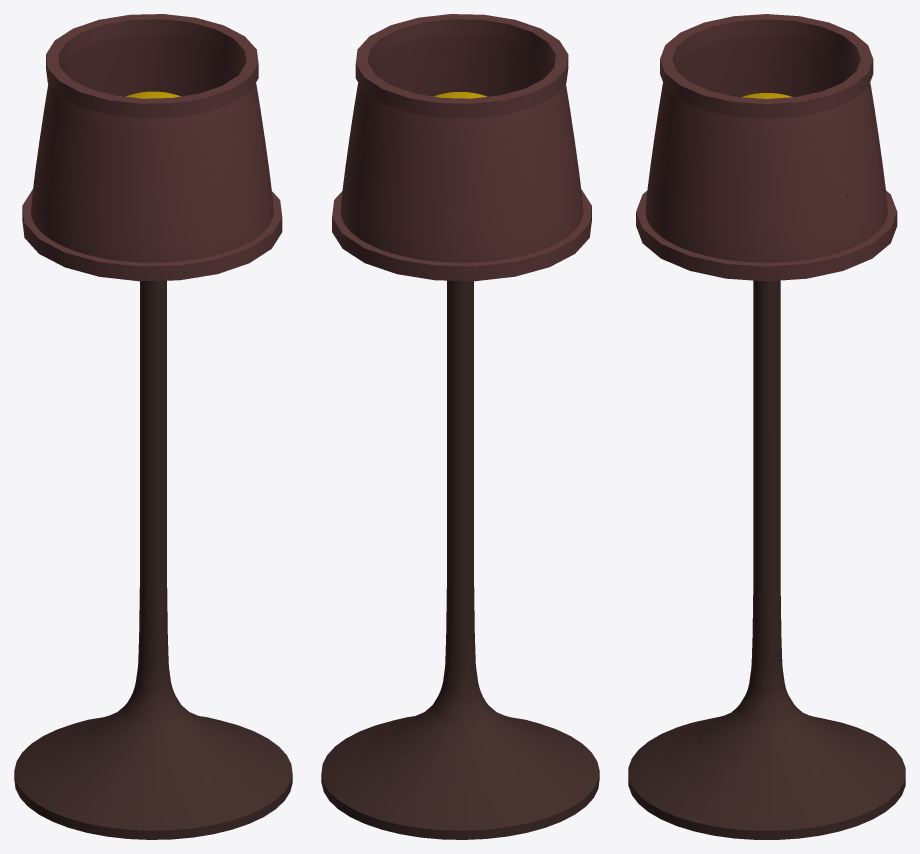
Rendered from LampeSalon1_6.fbx.
3 views of the same model, side by side, from view 1: azimuth 30°, elevation 25°; view 2: azimuth 150°, elevation 25°; view 3: azimuth 270°, elevation 25° (orthographic).
Visible parts, largest first — view 1: pPipe203, pCylinder1745, pPipe202, pPipe204; view 2: pPipe203, pCylinder1745, pPipe202, pPipe204; view 3: pPipe203, pCylinder1745, pPipe202, pPipe204.
Boxes of the visible parts, x1,y1,x2,y2 form: pPipe203: (31, 34, 273, 262); pCylinder1745: (14, 280, 292, 839); pPipe202: (46, 14, 258, 118); pPipe204: (22, 189, 282, 281); pPipe203: (340, 34, 583, 262); pCylinder1745: (321, 280, 599, 839); pPipe202: (355, 14, 568, 118); pPipe204: (332, 189, 591, 281); pPipe203: (645, 34, 887, 262); pCylinder1745: (628, 280, 905, 839); pPipe202: (660, 14, 873, 118); pPipe204: (636, 190, 897, 281).
Bounding box in the file's own units: 30.29 × 87.06 × 30.29.
